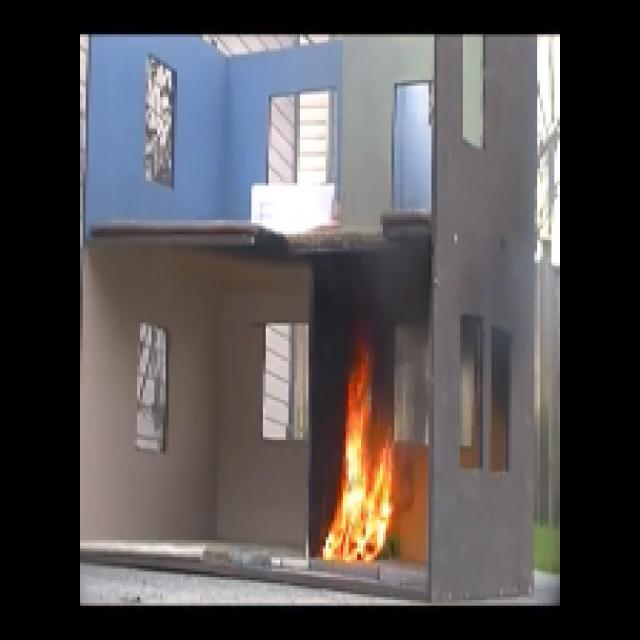fire: (337, 383, 391, 567), (322, 256, 429, 328)
